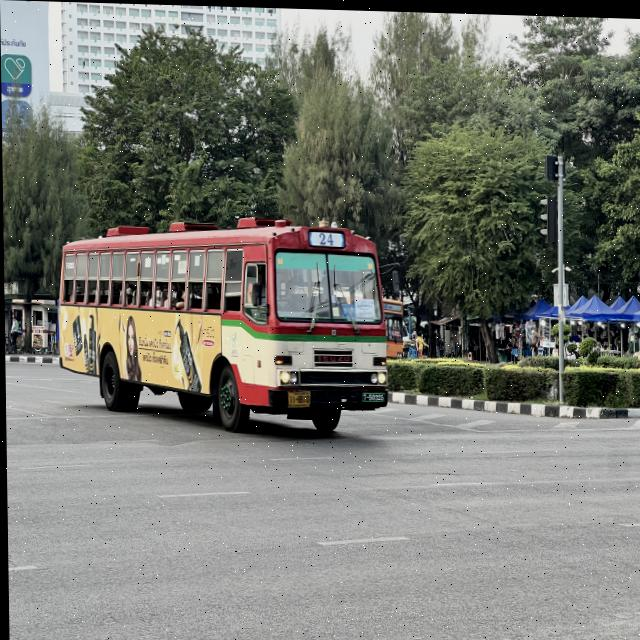BMTA-bus: (55, 211, 390, 435)
Bus-Line-Number: (306, 229, 345, 246)
Destination-Sign-Normal: (341, 303, 355, 319)
